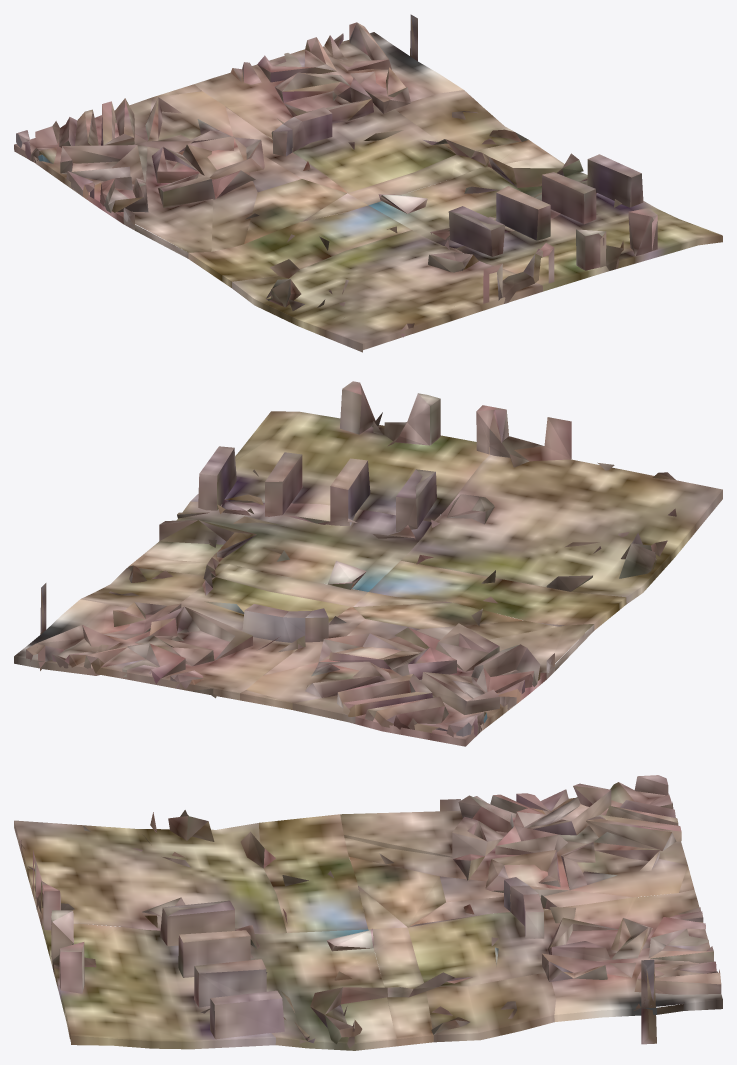
The picture shows the model from 3 angles, top to bottom: view 1: azimuth 30°, elevation 25°; view 2: azimuth 150°, elevation 25°; view 3: azimuth 270°, elevation 25°; orthographic projection. The views are drawn at different scales.
Visible parts, largest first — view 1: Mesh_0; view 2: Mesh_0; view 3: Mesh_0.
Boxes of the visible parts, <box> form: Mesh_0: <box>14,14,722,352</box>; Mesh_0: <box>14,381,722,746</box>; Mesh_0: <box>14,775,722,1050</box>.
Size of the model in its own units: 532 by 86.41 by 659.
1 material, 1 textured.
